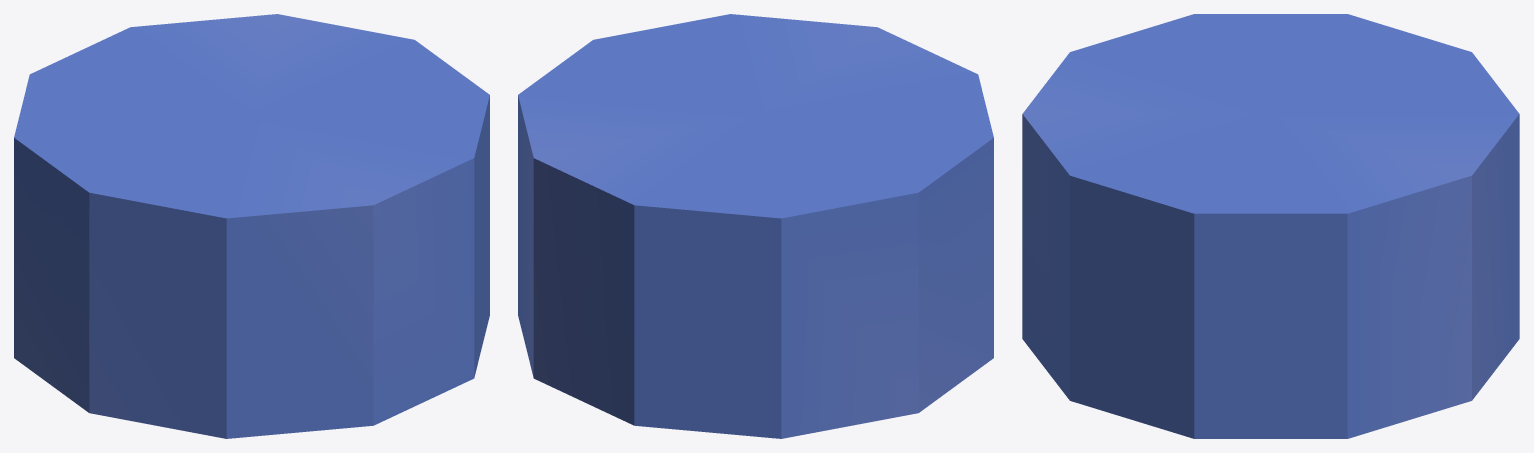
3 renders of one model, left to right at view 1: azimuth 30°, elevation 25°; view 2: azimuth 150°, elevation 25°; view 3: azimuth 270°, elevation 25°, orthographic. The views are drawn at different scales.
Visible parts, largest first — view 1: Cylinder; view 2: Cylinder; view 3: Cylinder.
Part boxes in pixels (x1=…): Cylinder: x1=14, y1=14, x2=489, y2=438; Cylinder: x1=518, y1=14, x2=993, y2=438; Cylinder: x1=1022, y1=14, x2=1519, y2=438.
Size of the model in its own units: 1.9 by 1 by 2.
